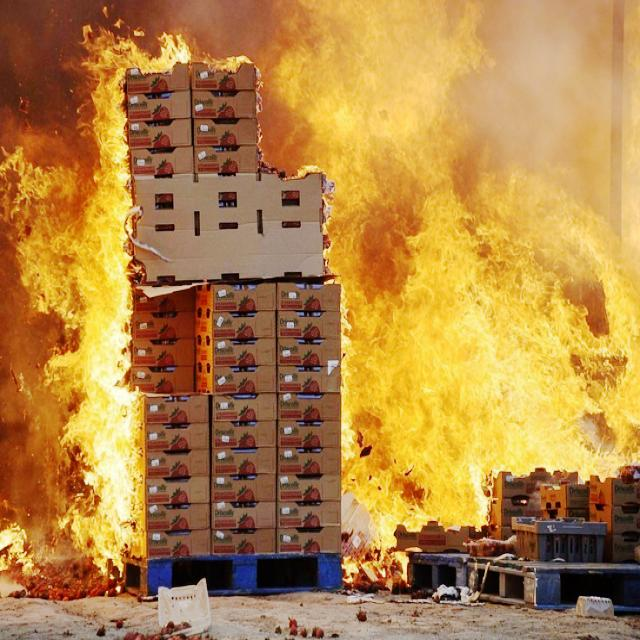api: (266, 1, 640, 577), (1, 1, 207, 595), (252, 74, 272, 172), (205, 50, 264, 79)
